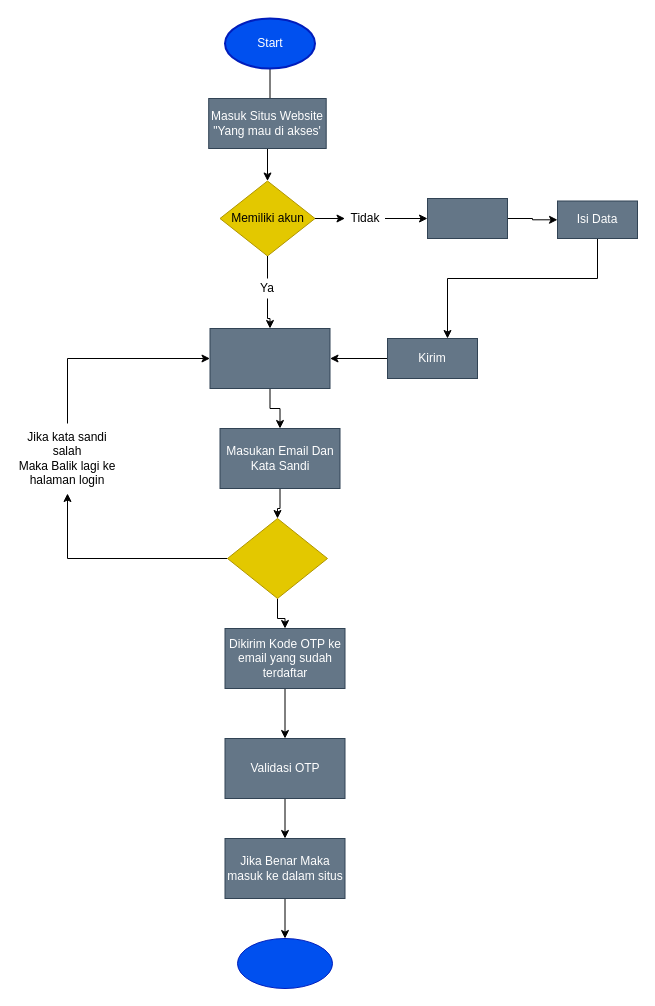
Image size: 655x1006. Some labels were removed from this diagram. The shapes that lost their labels are listed below. From the top down, each one's centre as x and y in pixels, then its label:
the point at 467,218: Mendaftar
the point at 269,358: Login
the point at 277,558: Email dan Password True
the point at 284,963: Done
